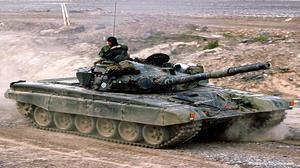t72: (7, 40, 295, 146)
